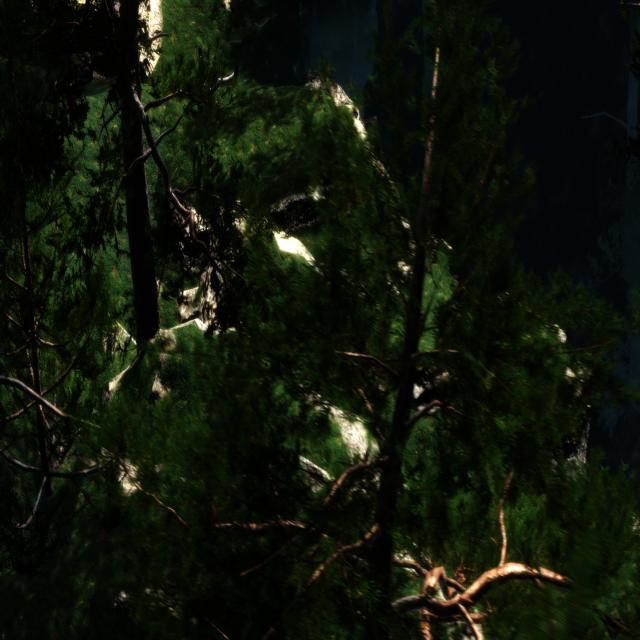Human: (198, 41, 244, 94)
